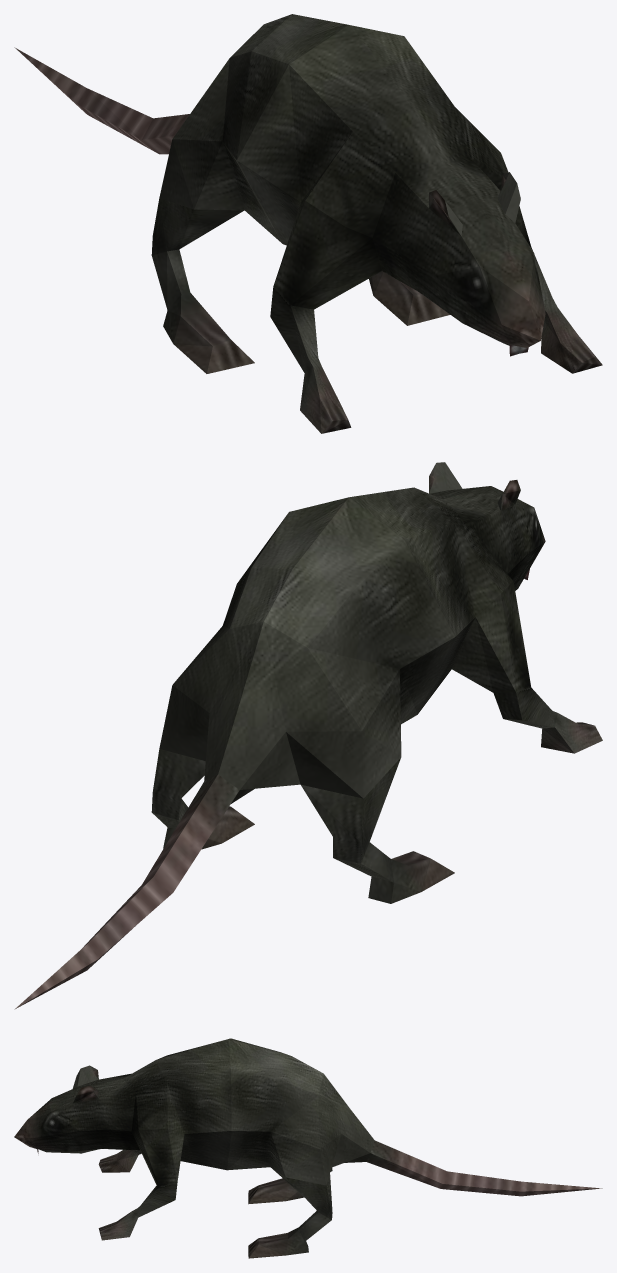
Rendered from rat2.glb.
The picture shows the model from 3 angles, top to bottom: view 1: azimuth 30°, elevation 25°; view 2: azimuth 150°, elevation 25°; view 3: azimuth 270°, elevation 25°; orthographic projection. The views are drawn at different scales.
Size of the model in its own units: 0.7715 by 0.8709 by 2.5.
Materials: 1 (1 with a texture image).
